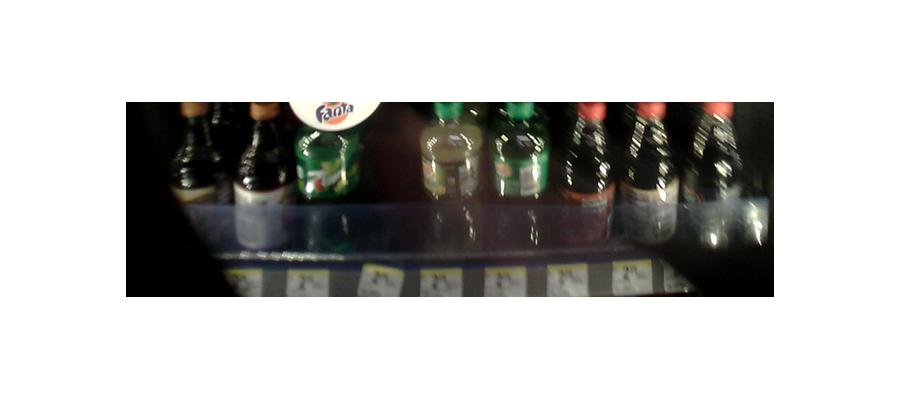bottle: (291, 105, 364, 249), (422, 99, 484, 252), (487, 102, 552, 246), (683, 104, 744, 256), (617, 105, 679, 248), (235, 99, 291, 255), (552, 105, 610, 249), (170, 101, 224, 210)
